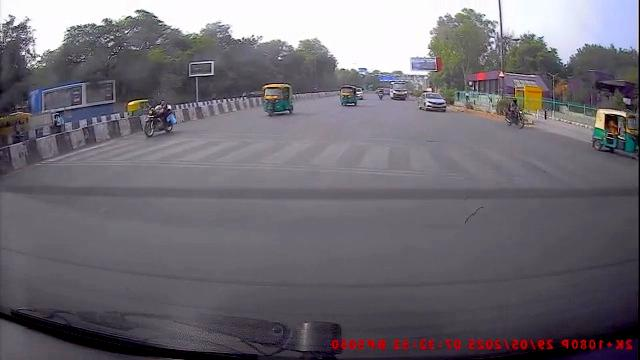motorcycle_with_helmet: (141, 98, 175, 139)
